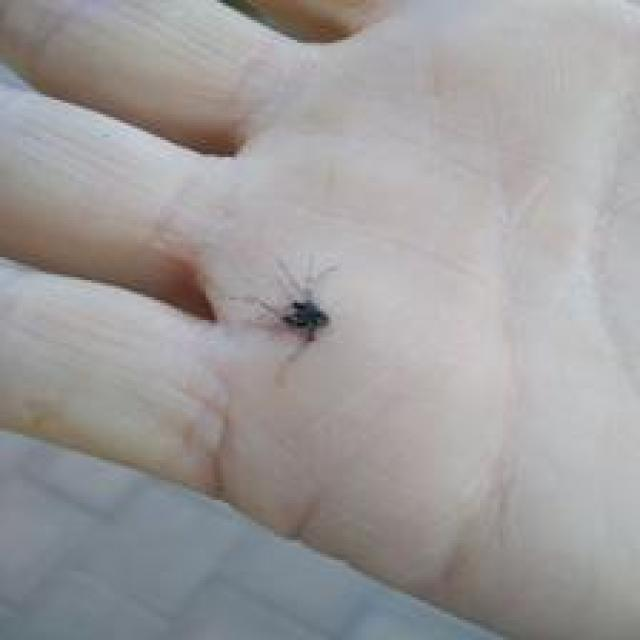Aedes albopictus: (230, 253, 341, 381)
